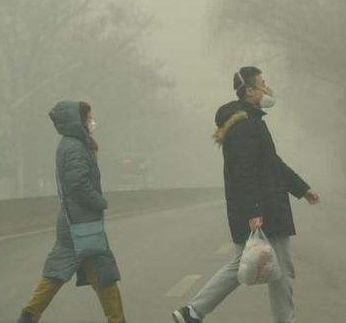person: (173, 63, 323, 323), (15, 97, 133, 323)
